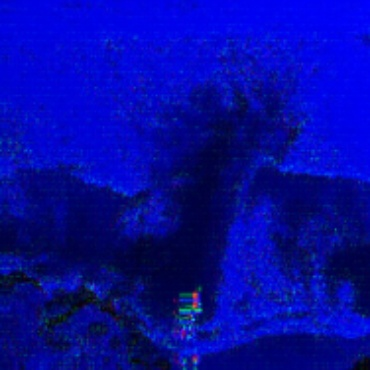rip_current: (132, 27, 281, 289)
